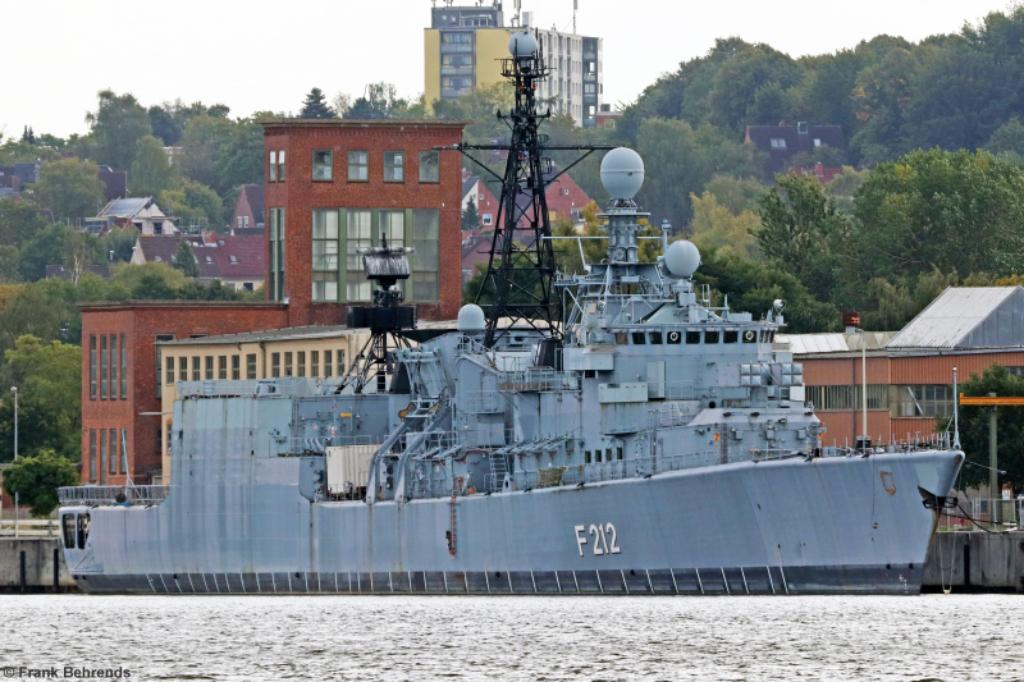Warship: (46, 2, 978, 590)
